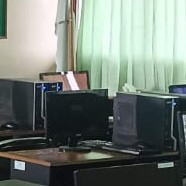monitor: (0, 90, 109, 152), (112, 91, 185, 157), (39, 70, 90, 91)
